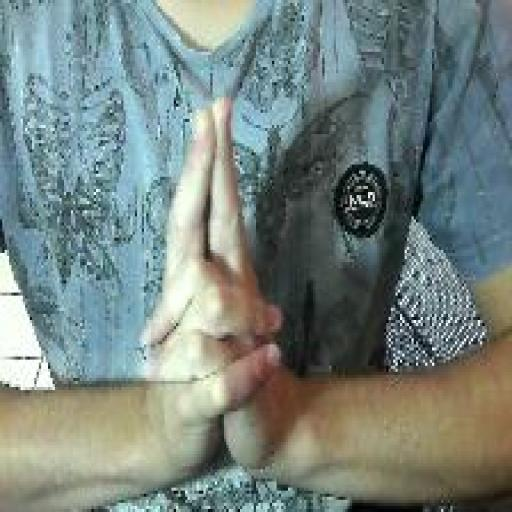Tora -tiger-: (136, 93, 289, 492)
